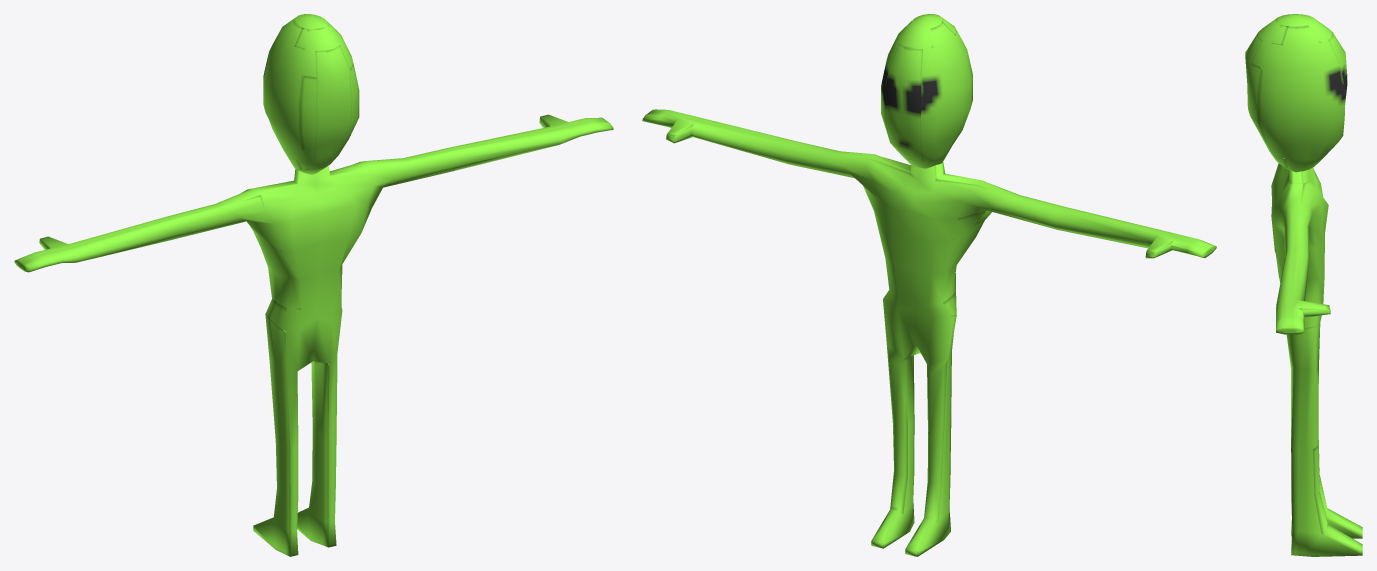
File: Alien.fbx
The picture shows the model from 3 angles, left to right: view 1: azimuth 30°, elevation 25°; view 2: azimuth 150°, elevation 25°; view 3: azimuth 270°, elevation 25°; orthographic projection. The views are drawn at different scales.
Visible parts, largest first — view 1: cuboid, sphere; view 2: cuboid, sphere; view 3: cuboid, sphere.
Part boxes in pixels (x1=…): cuboid: x1=14, y1=114, x2=613, y2=556; sphere: x1=263, y1=14, x2=359, y2=174; cuboid: x1=642, y1=109, x2=1216, y2=556; sphere: x1=881, y1=14, x2=972, y2=168; cuboid: x1=1271, y1=163, x2=1362, y2=556; sphere: x1=1245, y1=14, x2=1347, y2=172.
Size of the model in its own units: 383 by 333 by 66.98.
1 material, 1 textured.
